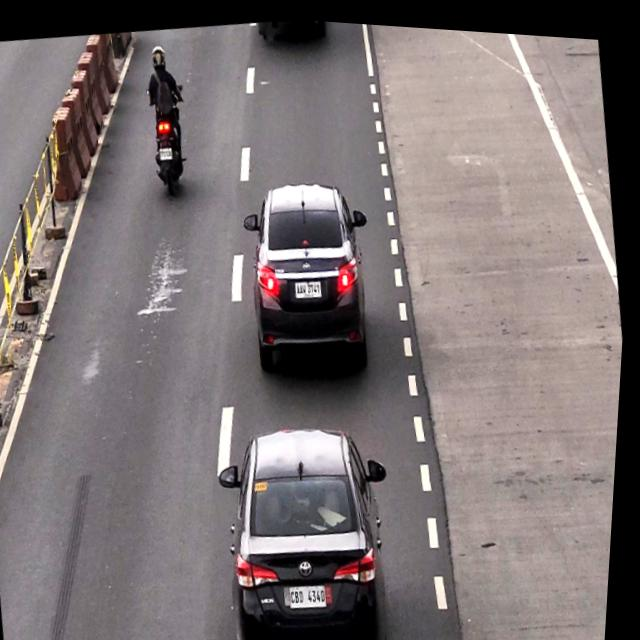Car: (218, 410, 407, 640), (239, 168, 382, 374)
License-Plate: (293, 575, 337, 614), (297, 275, 327, 300), (158, 144, 177, 162)
Motorcycle: (137, 40, 197, 203)
